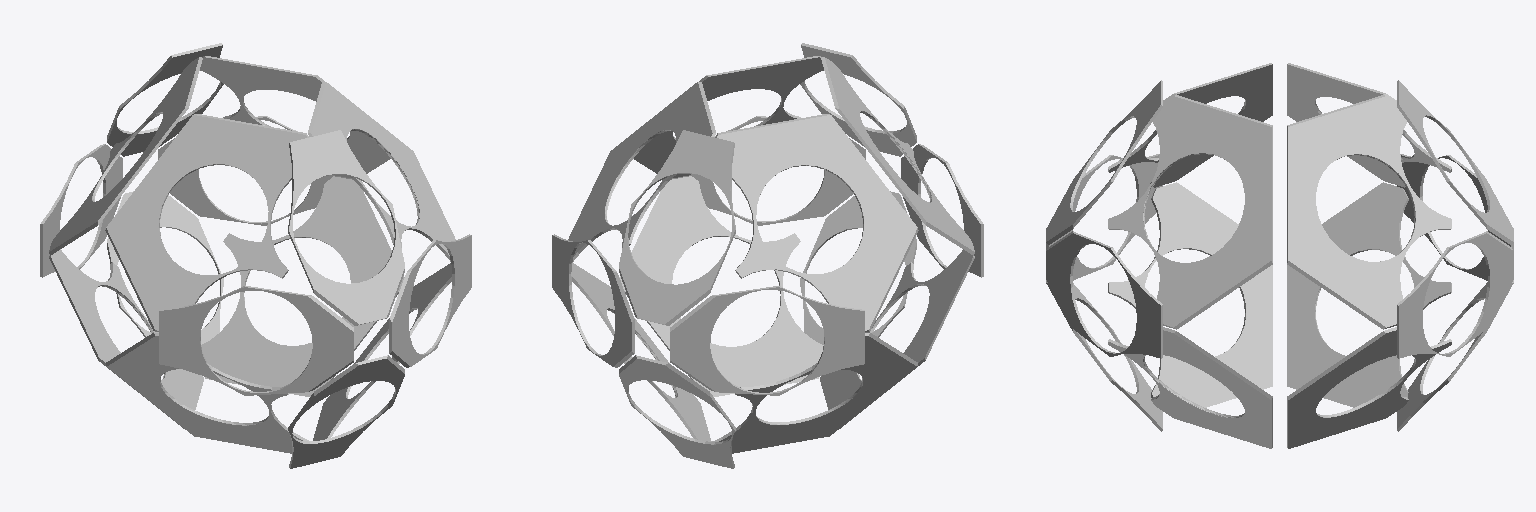
File: SupportStructure_edited.obj
3 renders of one model, left to right at view 1: azimuth 30°, elevation 25°; view 2: azimuth 150°, elevation 25°; view 3: azimuth 270°, elevation 25°, orthographic.
Parts seen in each view (by area): view 1: Volumenkörper1; view 2: Volumenkörper1; view 3: Volumenkörper1.
Boxes of the visible parts, x1,y1,x2,y2 form: Volumenkörper1: [40, 43, 471, 468]; Volumenkörper1: [552, 43, 983, 468]; Volumenkörper1: [1046, 63, 1513, 448].
Size of the model in its own units: 185 by 185 by 239.